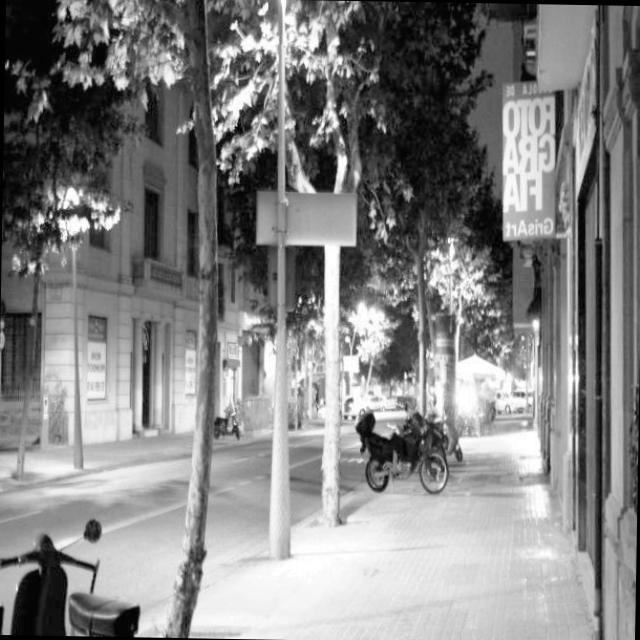Motorcycle: (0, 513, 141, 636), (352, 378, 452, 504)
Tree: (140, 0, 233, 638), (284, 0, 360, 533)
